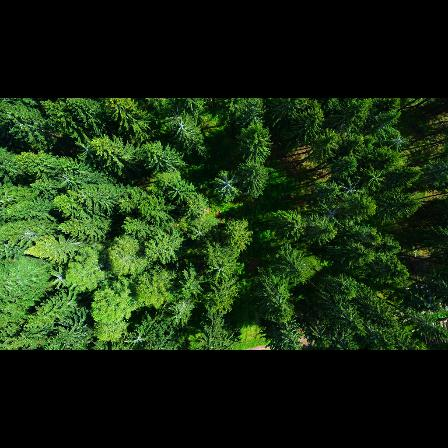Sick: (208, 165, 249, 206), (47, 263, 74, 296), (319, 202, 343, 227), (386, 130, 413, 152)
